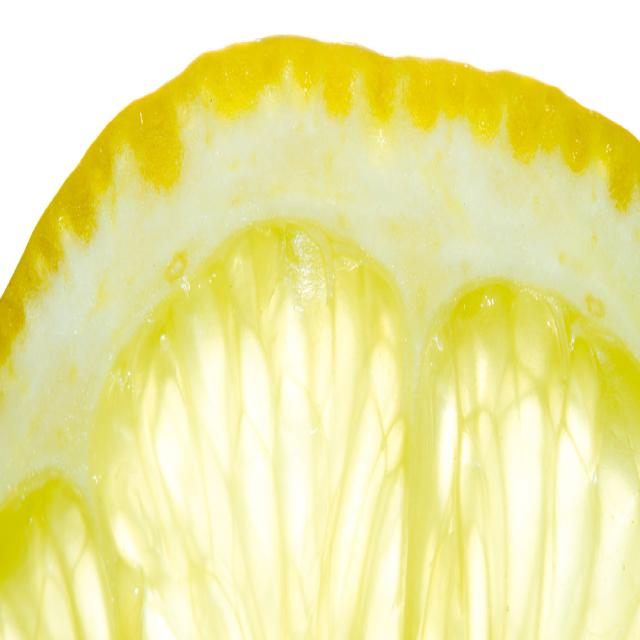Lemon: (1, 30, 640, 639)
